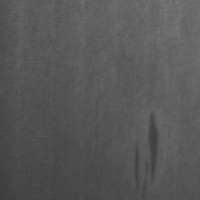inclusion: (127, 108, 165, 199)
